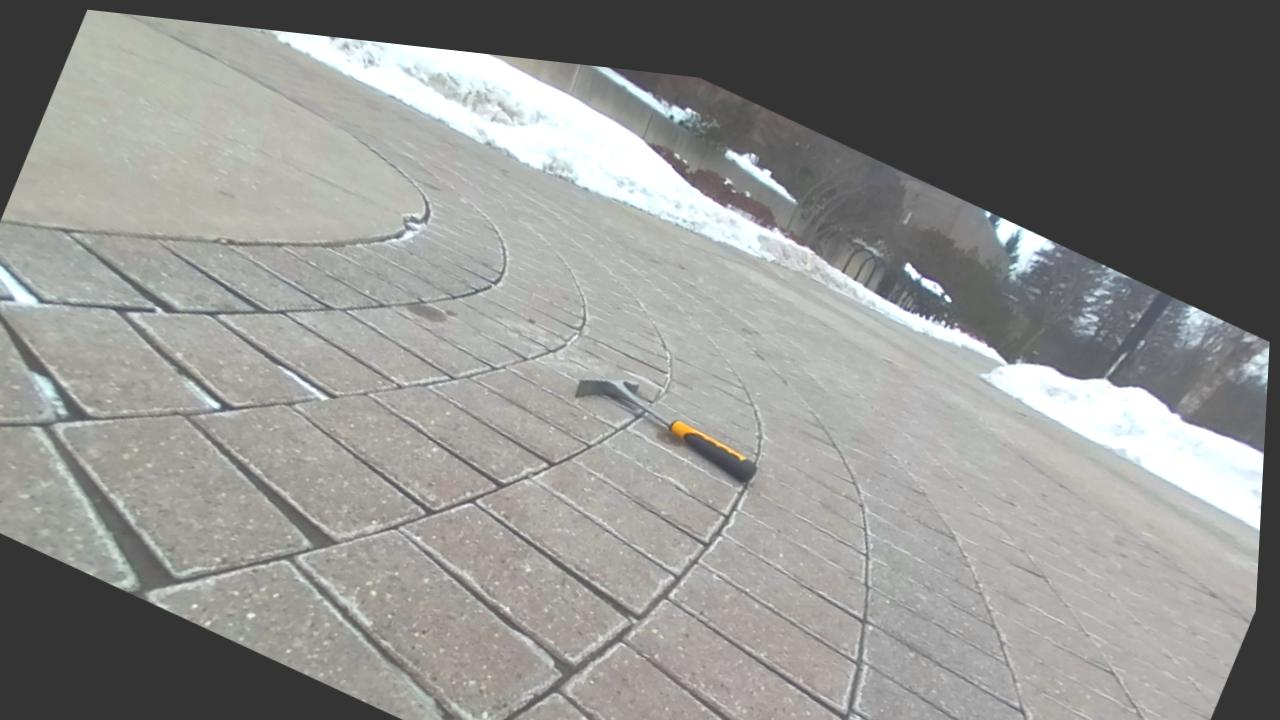pick: (575, 379, 756, 482)
